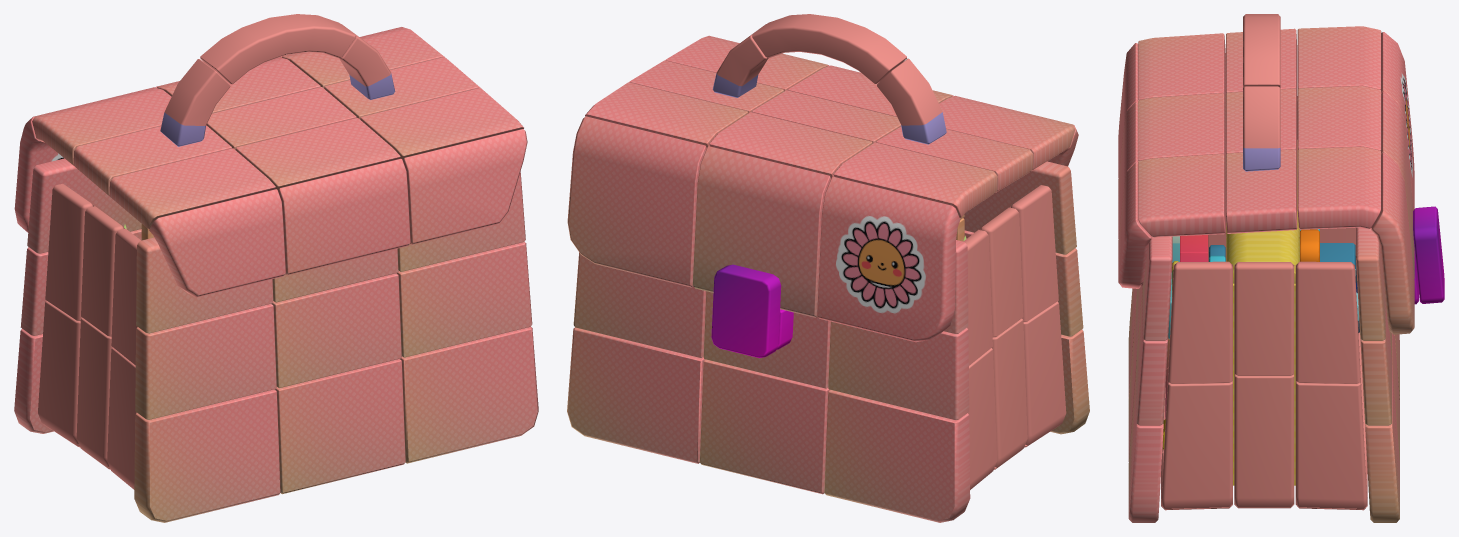
3 views of the same model, side by side, from view 1: azimuth 30°, elevation 25°; view 2: azimuth 150°, elevation 25°; view 3: azimuth 270°, elevation 25° (orthographic).
Visible parts, largest first — view 1: BagBook_20, BagBook_18, BagBook_26, BagBook_32, BagBook_74, BagBook_51, BagBook_76, BagBook_99, BagBook_41, BagBook_52, BagBook_46, BagBook_48 (+22 smaller); view 2: BagBook_98, BagBook_40, BagBook_42, BagBook_17, BagBook_19, BagBook_25, BagBook_78, BagBook_31, BagBook_45, BagBook_121, BagBook_116, BagBook_49 (+20 smaller); view 3: BagBook_21, BagBook_34, BagBook_113, BagBook_09, BagBook_24, BagBook_107, BagBook_48, BagBook_47, BagBook_46, BagBook_52, BagBook_49, BagBook_50 (+28 smaller).
Part boxes in pixels (bbox=[...]): BagBook_20: bbox=[134, 389, 280, 522]; BagBook_18: bbox=[400, 327, 538, 463]; BagBook_26: bbox=[275, 359, 405, 494]; BagBook_32: bbox=[135, 304, 276, 419]; BagBook_74: bbox=[396, 242, 532, 357]; BagBook_51: bbox=[278, 158, 410, 275]; BagBook_76: bbox=[271, 273, 401, 388]; BagBook_99: bbox=[149, 189, 285, 297]; BagBook_41: bbox=[403, 129, 527, 244]; BagBook_52: bbox=[109, 148, 275, 228]; BagBook_46: bbox=[235, 118, 400, 190]; BagBook_48: bbox=[360, 88, 523, 160]; BagBook_98: bbox=[817, 176, 960, 342]; BagBook_40: bbox=[567, 116, 706, 287]; BagBook_42: bbox=[692, 146, 830, 317]; BagBook_17: bbox=[824, 390, 970, 522]; BagBook_19: bbox=[567, 327, 705, 463]; BagBook_25: bbox=[699, 359, 829, 494]; BagBook_78: bbox=[828, 321, 969, 420]; BagBook_31: bbox=[573, 252, 705, 358]; BagBook_45: bbox=[833, 142, 997, 218]; BagBook_121: bbox=[752, 14, 906, 83]; BagBook_116: bbox=[711, 264, 781, 358]; BagBook_49: bbox=[709, 112, 872, 178]; BagBook_21: bbox=[1295, 381, 1367, 508]; BagBook_34: bbox=[1161, 381, 1232, 508]; BagBook_113: bbox=[1234, 374, 1294, 507]; BagBook_09: bbox=[1295, 261, 1360, 383]; BagBook_24: bbox=[1168, 261, 1232, 383]; BagBook_107: bbox=[1234, 262, 1294, 375]; BagBook_48: bbox=[1138, 154, 1225, 237]; BagBook_47: bbox=[1297, 146, 1381, 229]; BagBook_46: bbox=[1138, 93, 1225, 170]; BagBook_52: bbox=[1138, 33, 1225, 109]; BagBook_49: bbox=[1297, 86, 1381, 150]; BagBook_50: bbox=[1225, 149, 1297, 233].
Size of the model in its own units: 5.32 by 5.27 by 3.82.
